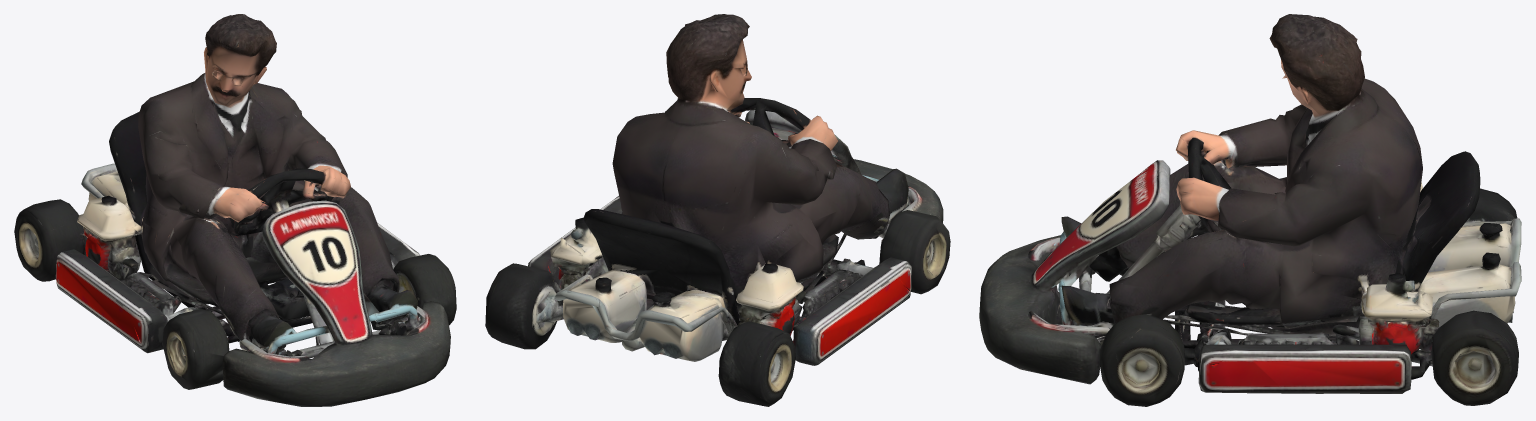
File: Meshy_AI_H_Minkowski_s_Grand__0518064319_texture.obj
3 renders of one model, left to right at view 1: azimuth 30°, elevation 25°; view 2: azimuth 150°, elevation 25°; view 3: azimuth 270°, elevation 25°, orthographic. The views are drawn at different scales.
Visible parts, largest first — view 1: Meshy_AI_H_Minkowski_s_Grand__0518064319_texture; view 2: Meshy_AI_H_Minkowski_s_Grand__0518064319_texture; view 3: Meshy_AI_H_Minkowski_s_Grand__0518064319_texture.
Part boxes in pixels (x1,y1,x2,y2): Meshy_AI_H_Minkowski_s_Grand__0518064319_texture: (14,14,456,406); Meshy_AI_H_Minkowski_s_Grand__0518064319_texture: (485,14,950,406); Meshy_AI_H_Minkowski_s_Grand__0518064319_texture: (979,14,1521,406).
Bounding box in the file's own units: 1.04 × 1 × 1.54.
1 material, 1 textured.
